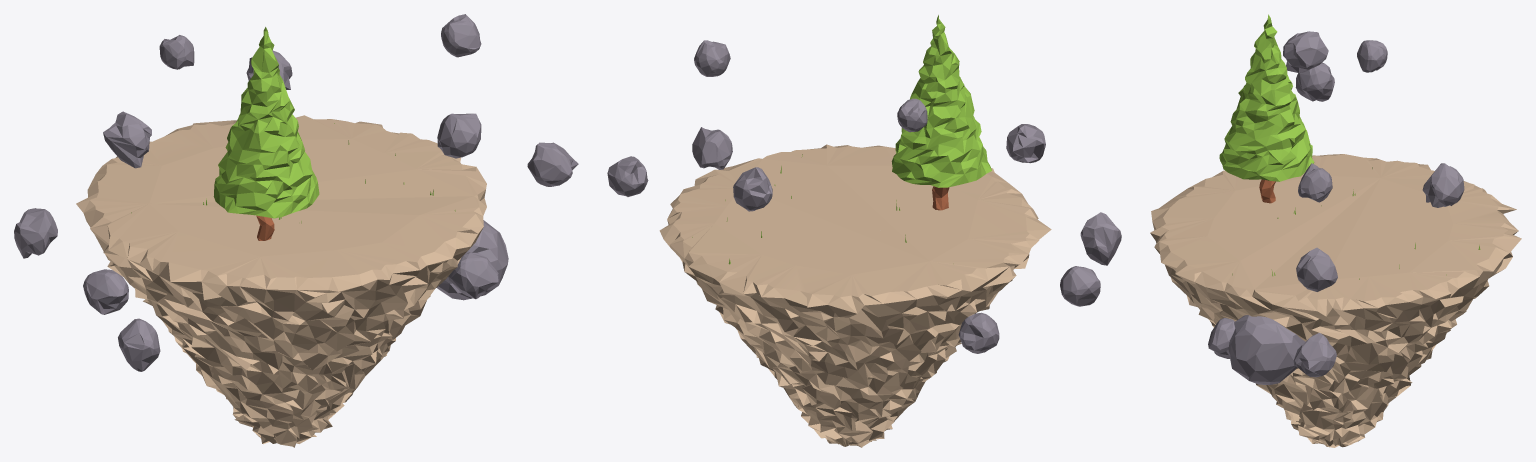
Rendered from island-scene.gltf.
3 views of the same model, side by side, from view 1: azimuth 30°, elevation 25°; view 2: azimuth 150°, elevation 25°; view 3: azimuth 270°, elevation 25° (orthographic). The views are drawn at different scales.
Visible parts, largest first — view 1: Cone002, Cone001, GeoSphere013, GeoSphere009, GeoSphere010, GeoSphere011, GeoSphere005, GeoSphere014, GeoSphere006, GeoSphere002, GeoSphere012, GeoSphere007; view 2: Cone002, Cone001, GeoSphere010, GeoSphere009, GeoSphere008, GeoSphere011, GeoSphere005, GeoSphere013, GeoSphere014, GeoSphere012, GeoSphere007; view 3: Cone002, Cone001, GeoSphere002, GeoSphere013, GeoSphere008, GeoSphere014, GeoSphere009, GeoSphere010, GeoSphere012, GeoSphere007, GeoSphere006.
Boxes of the visible parts, bbox=[...] form: Cone002: bbox=[76, 115, 486, 447]; Cone001: bbox=[213, 27, 319, 218]; GeoSphere013: bbox=[103, 111, 151, 168]; GeoSphere009: bbox=[437, 113, 481, 158]; GeoSphere010: bbox=[14, 208, 57, 258]; GeoSphere011: bbox=[118, 318, 160, 371]; GeoSphere005: bbox=[83, 269, 128, 314]; GeoSphere014: bbox=[527, 142, 578, 186]; GeoSphere006: bbox=[448, 252, 499, 299]; GeoSphere002: bbox=[436, 220, 508, 300]; GeoSphere012: bbox=[441, 14, 481, 57]; GeoSphere007: bbox=[159, 35, 194, 69]; Cone002: bbox=[659, 144, 1051, 447]; Cone001: bbox=[891, 15, 991, 187]; GeoSphere010: bbox=[1080, 212, 1121, 265]; GeoSphere009: bbox=[692, 127, 732, 169]; GeoSphere008: bbox=[733, 167, 772, 211]; GeoSphere011: bbox=[1060, 266, 1100, 306]; GeoSphere005: bbox=[958, 312, 999, 353]; GeoSphere013: bbox=[1006, 124, 1045, 163]; GeoSphere014: bbox=[607, 156, 648, 196]; GeoSphere012: bbox=[694, 40, 730, 76]; GeoSphere007: bbox=[897, 98, 927, 132]; Cone002: bbox=[1150, 154, 1521, 447]; Cone001: bbox=[1219, 14, 1314, 181]; GeoSphere002: bbox=[1228, 315, 1305, 384]; GeoSphere013: bbox=[1283, 31, 1328, 72]; GeoSphere008: bbox=[1422, 163, 1464, 207]; GeoSphere014: bbox=[1293, 332, 1336, 377]; GeoSphere009: bbox=[1296, 247, 1337, 291]; GeoSphere010: bbox=[1295, 62, 1334, 101]; GeoSphere012: bbox=[1298, 163, 1332, 202]; GeoSphere007: bbox=[1357, 40, 1387, 72]; GeoSphere006: bbox=[1208, 318, 1235, 358].
Bounding box in the file's own units: 3.68 × 2.82 × 2.39.
